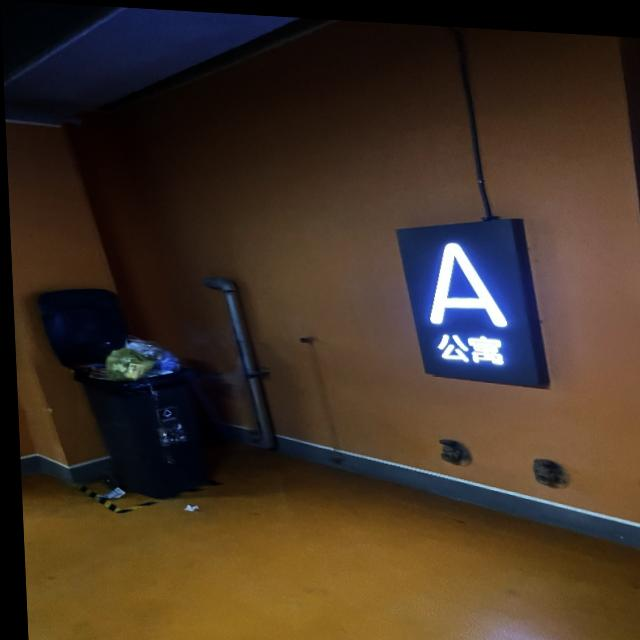overflow: (70, 331, 203, 497)
